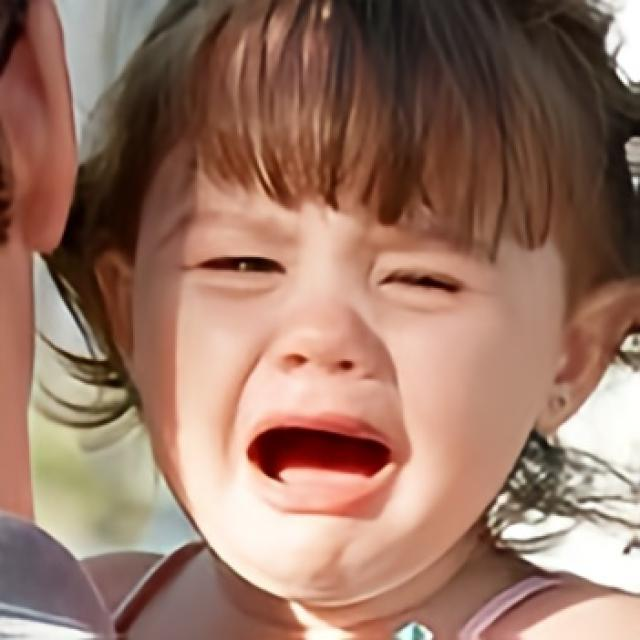sad: (133, 64, 556, 591)
